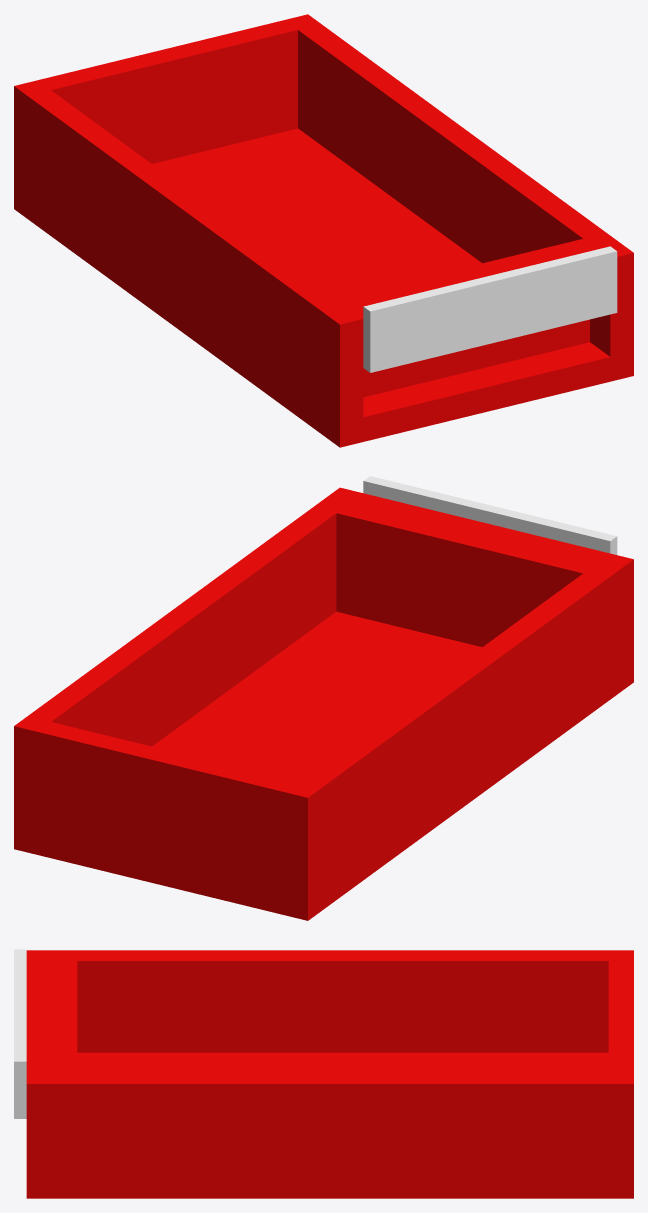
The model's file is tbd6.glb.
3 views of the same model, one above another, from view 1: azimuth 30°, elevation 25°; view 2: azimuth 150°, elevation 25°; view 3: azimuth 270°, elevation 25° (orthographic). The views are drawn at different scales.
Parts seen in each view (by area): view 1: Body61_8_8, Body62_9_9; view 2: Body61_8_8, Body62_9_9; view 3: Body61_8_8, Body62_9_9.
Boxes of the visible parts, x1,y1,x2,y2 form: Body61_8_8: [14, 14, 633, 447]; Body62_9_9: [363, 246, 617, 372]; Body61_8_8: [14, 487, 633, 920]; Body62_9_9: [363, 476, 617, 554]; Body61_8_8: [26, 950, 633, 1198]; Body62_9_9: [14, 949, 26, 1118].
Size of the model in its own units: 0.125 by 0.055 by 0.245.
